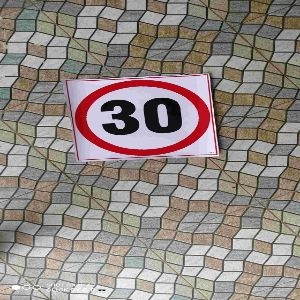speedlimit30: (66, 79, 216, 159)
